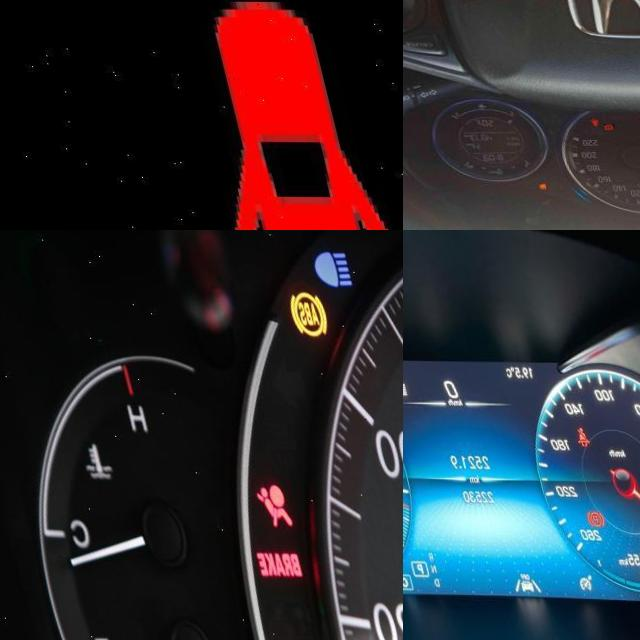LaneCenteringOff: (489, 577, 518, 592)
